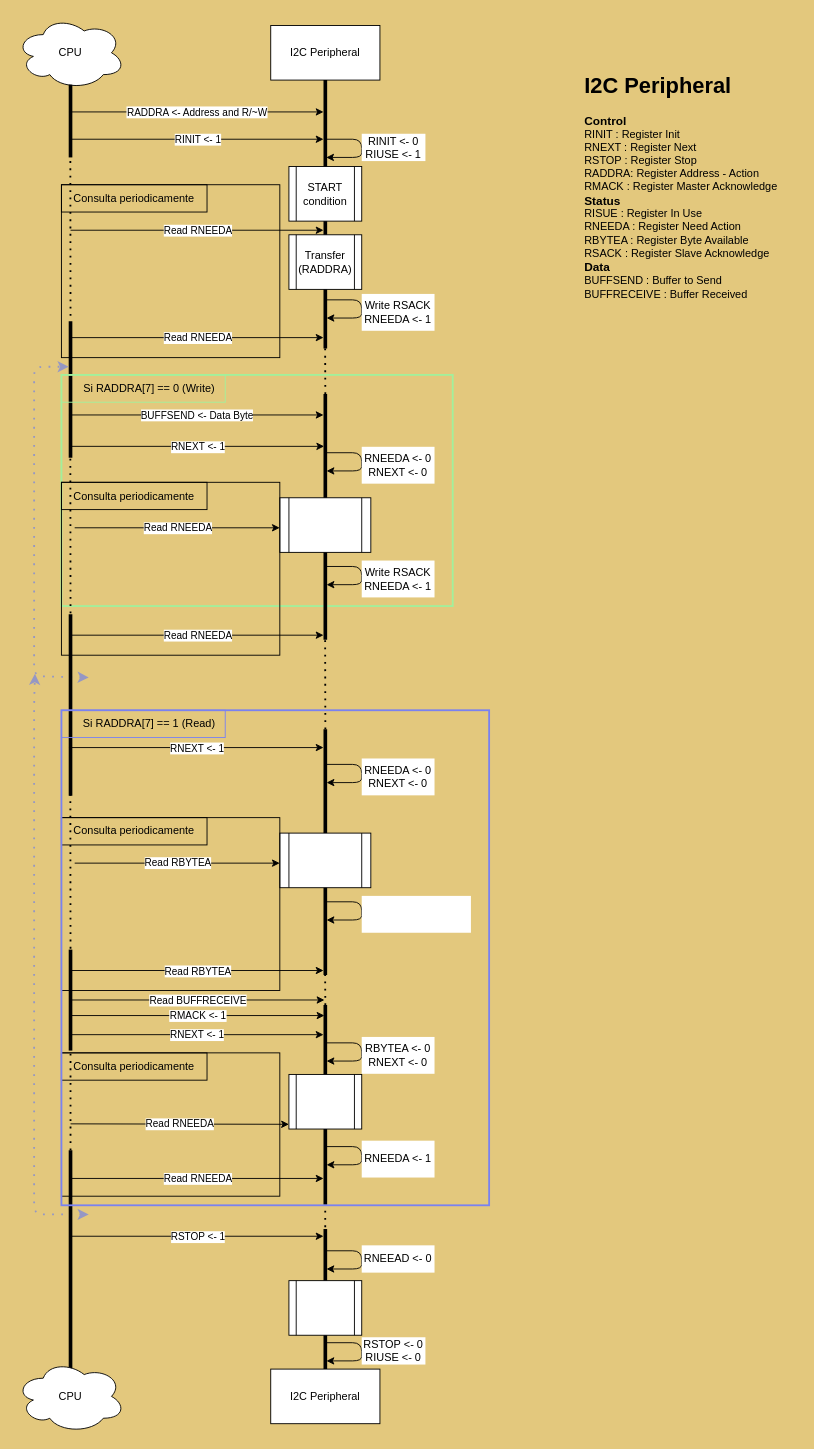
This 814x1449 diagram has some shape labels left out. Here are the shapes that lost their labels. From the top down, the centre of each, then its label:
At (325,524): "Transfer (BUFFSEND)".
At (325,860): "Receive".
At (415,913): "Write BUFFRECEIVE RBYTEA <- 1".
At (325,1101): "Transfer (RMACK)".
At (325,1307): "STOP condition".
